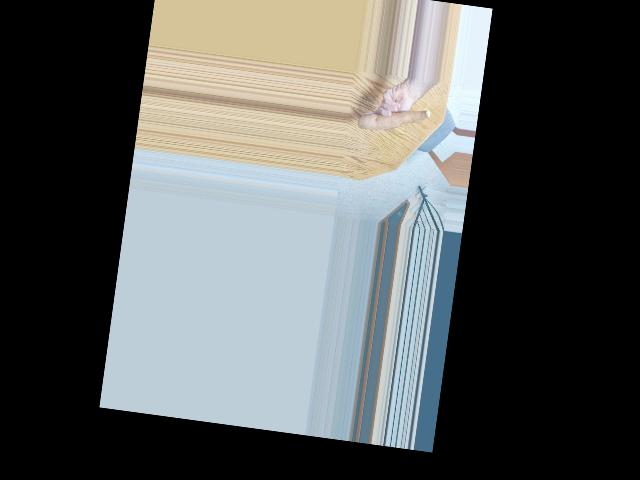sweet_potato: (358, 101, 433, 142)
